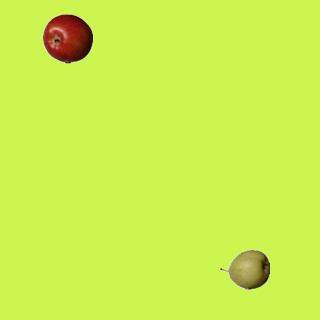Apple Braeburn: (42, 13, 92, 63)
Pear: (219, 244, 269, 294)
